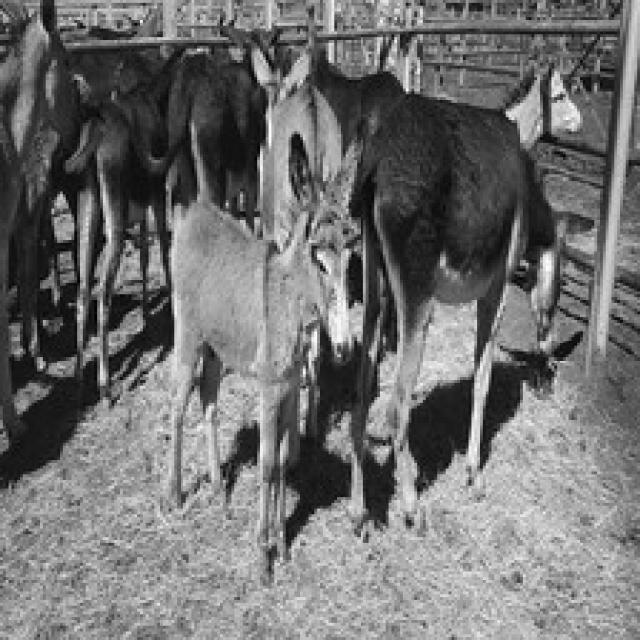Donkey: (343, 60, 583, 534), (163, 126, 366, 583), (57, 6, 183, 408), (0, 0, 66, 446), (0, 0, 29, 483)
